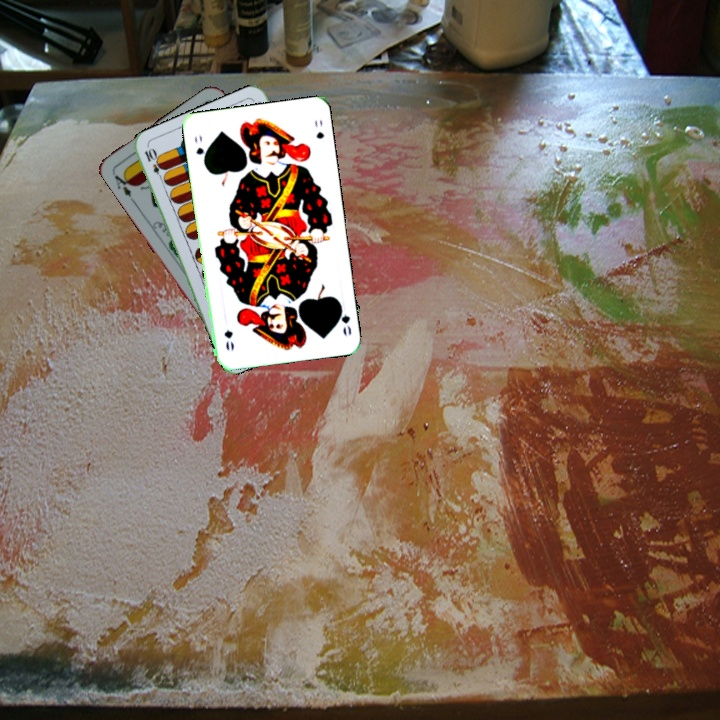E10: (140, 144, 167, 183)
EA: (108, 168, 137, 204)
GO: (334, 298, 354, 339), (190, 131, 209, 167)
